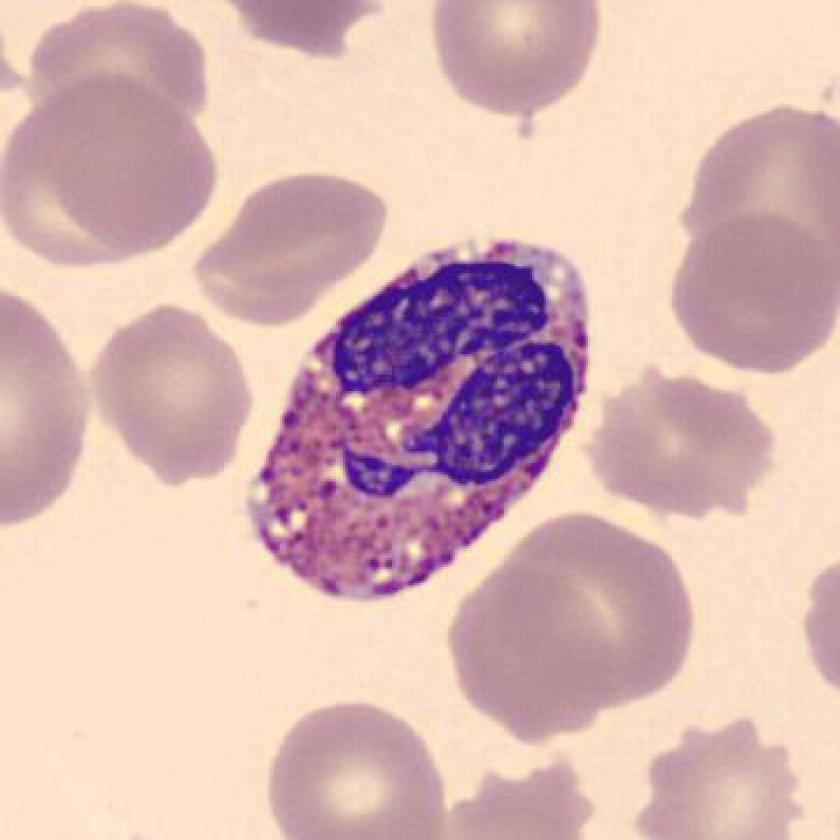eosinophil: (234, 226, 608, 621)
